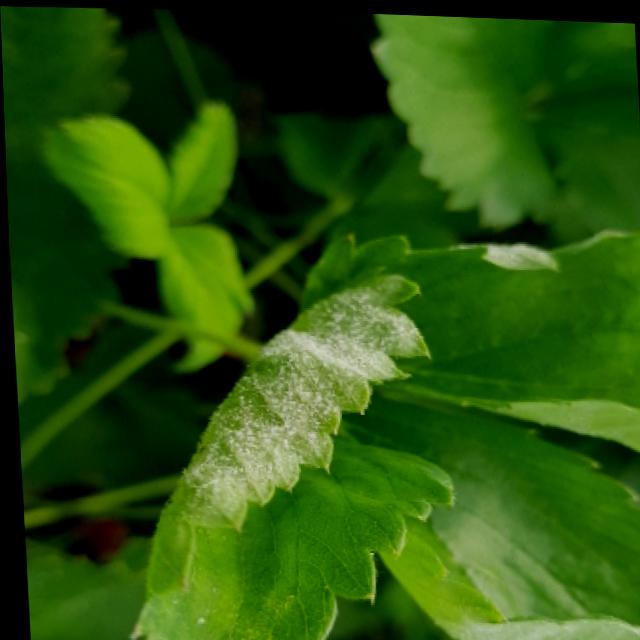Powdery Mildew Leaf: (119, 270, 452, 640), (341, 382, 640, 640)
